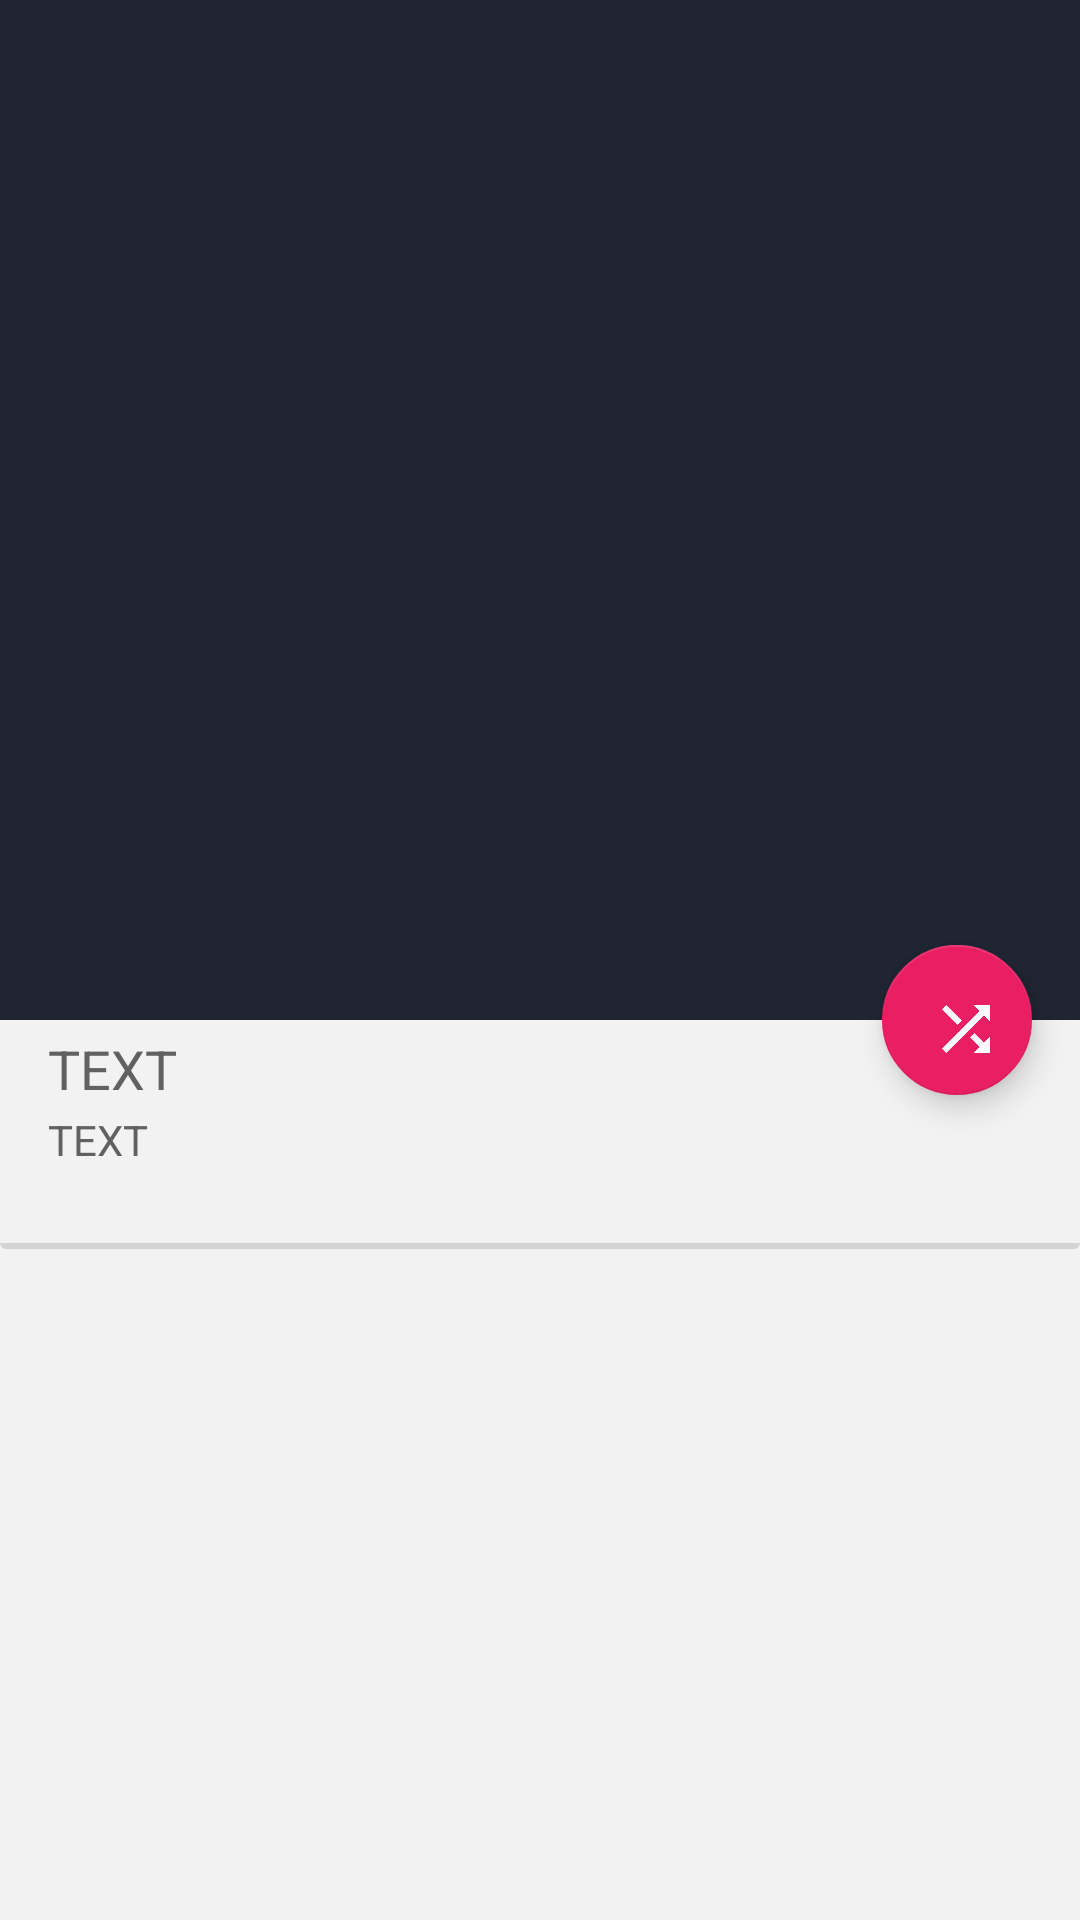

Icons on this 1080x1920 Android screen, each with the point to tap as (x,y):
shuffle floating: (957,1020)
